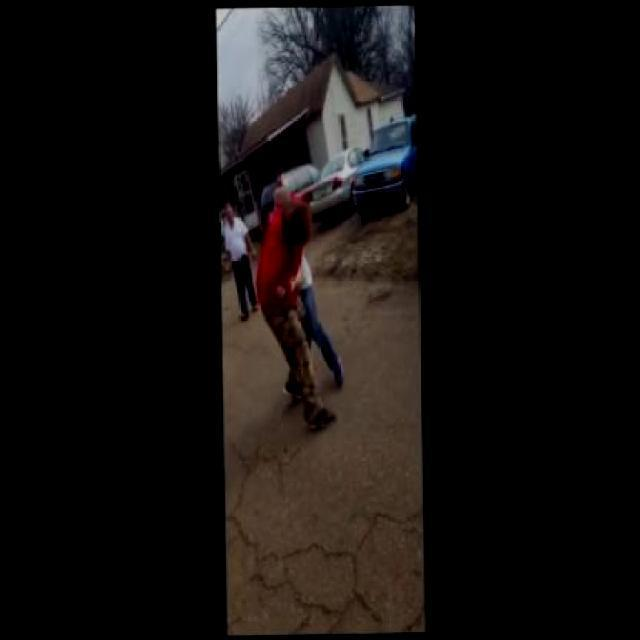fight: (253, 186, 321, 332)
non-fight: (222, 201, 258, 321)
